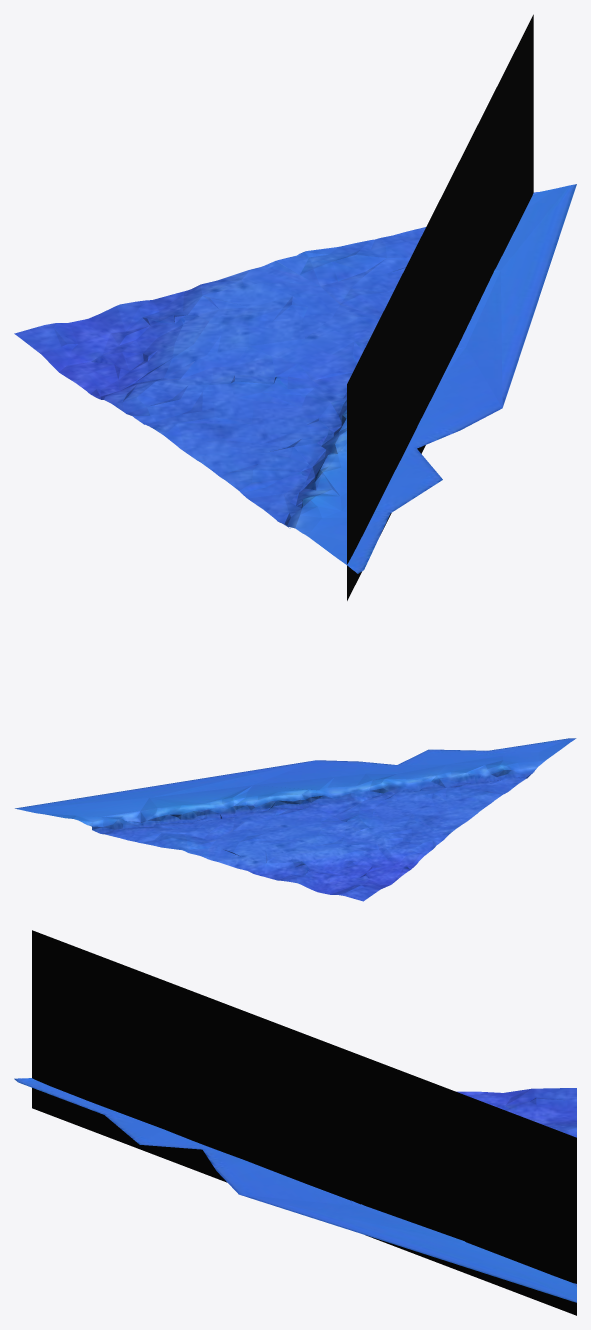
3 renders of one model, top to bottom at view 1: azimuth 30°, elevation 25°; view 2: azimuth 150°, elevation 25°; view 3: azimuth 270°, elevation 25°, orthographic. The views are drawn at different scales.
Size of the model in its own units: 24.38 by 9 by 25.78.
3 materials, 3 textured.
